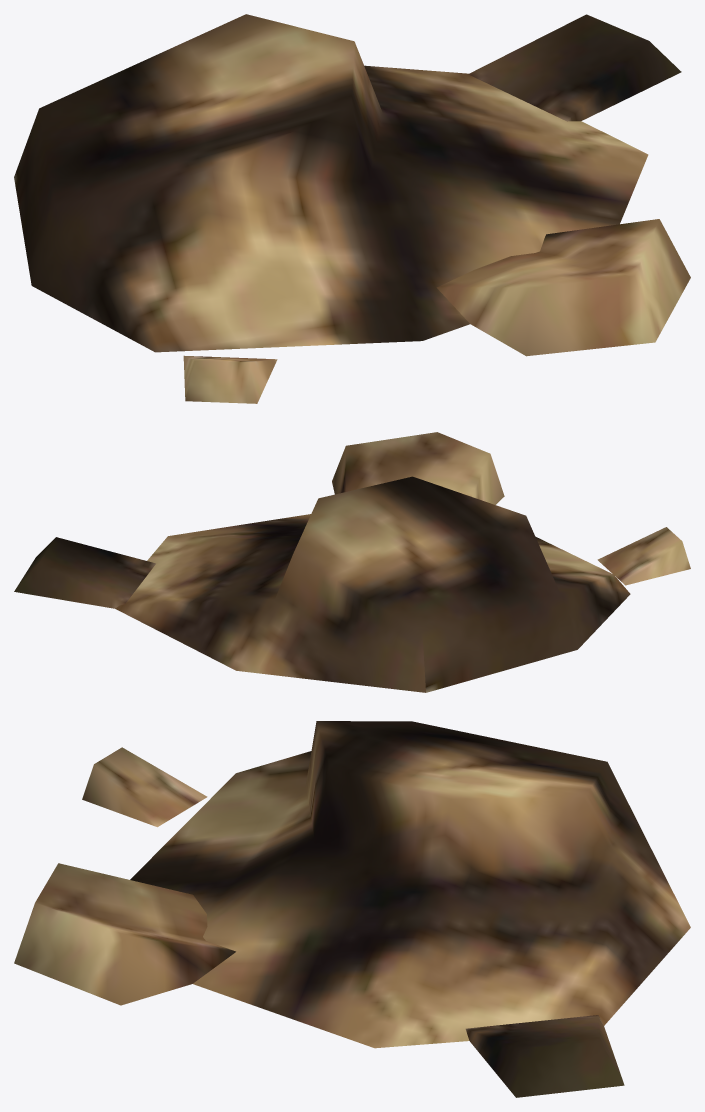
The model's file is dec_red_stone_05_23411.glb.
The picture shows the model from 3 angles, top to bottom: view 1: azimuth 30°, elevation 25°; view 2: azimuth 150°, elevation 25°; view 3: azimuth 270°, elevation 25°; orthographic projection. The views are drawn at different scales.
Parts seen in each view (by area): view 1: red_stone_05_mesh; view 2: red_stone_05_mesh; view 3: red_stone_05_mesh.
Boxes of the visible parts, left/top/right/bottom form: red_stone_05_mesh: left=14, top=14, right=690, bottom=403; red_stone_05_mesh: left=14, top=432, right=690, bottom=692; red_stone_05_mesh: left=14, top=721, right=690, bottom=1097.
Size of the model in its own units: 1.41 by 0.2755 by 1.26.
1 material, 1 textured.
